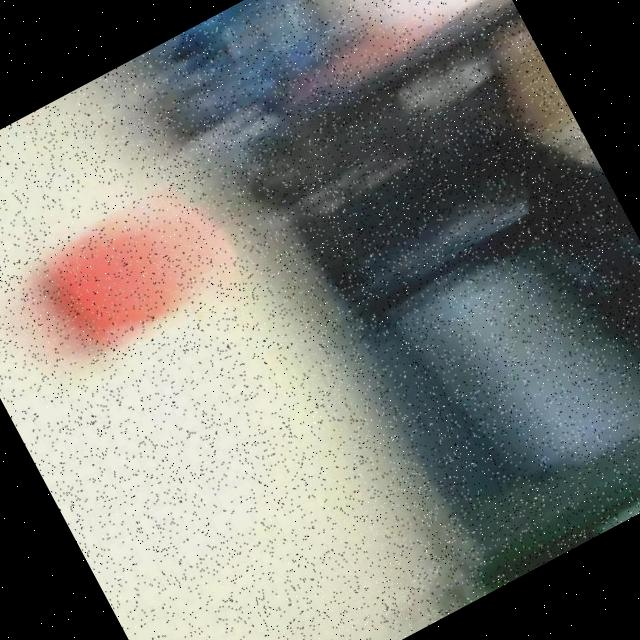ping-pong-ball: (26, 162, 240, 362)
